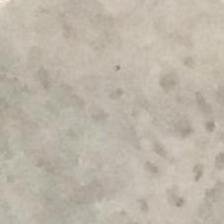Non_Crack: (28, 19, 160, 222)
